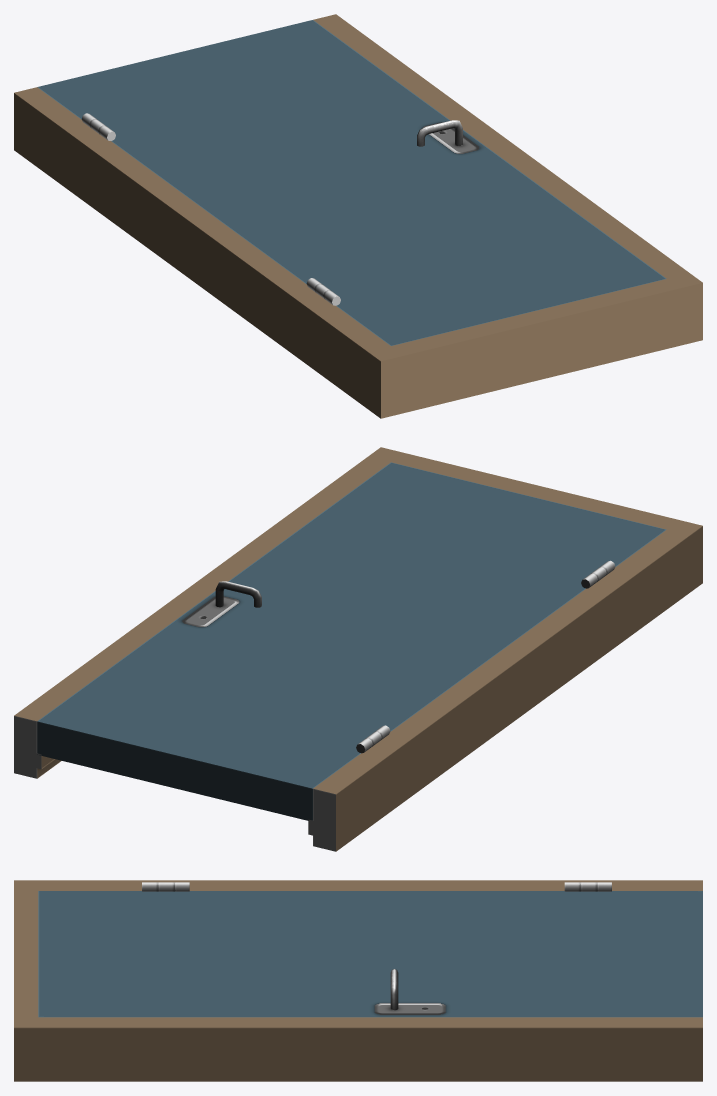
Rendered from door.obj.
The picture shows the model from 3 angles, top to bottom: view 1: azimuth 30°, elevation 25°; view 2: azimuth 150°, elevation 25°; view 3: azimuth 270°, elevation 25°; orthographic projection. The views are drawn at different scales.
Visible parts, largest first — view 1: Door, Door_Frame, Object002; view 2: Door, Door_Frame, Object002; view 3: Door, Door_Frame, Object002, Door_Handle.
Boxes of the visible parts, x1=… form: Door: x1=37, y1=20, x2=666, y2=345; Door_Frame: x1=14, y1=14, x2=702, y2=418; Object002: x1=81, y1=113, x2=340, y2=305; Door: x1=37, y1=462, x2=666, y2=820; Door_Frame: x1=14, y1=447, x2=702, y2=851; Object002: x1=356, y1=560, x2=615, y2=753; Door: x1=38, y1=891, x2=702, y2=1017; Door_Frame: x1=14, y1=880, x2=702, y2=1081; Object002: x1=142, y1=882, x2=611, y2=891; Door_Handle: x1=390, y1=969, x2=398, y2=1010.
Size of the model in its own units: 107 by 26.85 by 211.
1 material, 1 textured.
